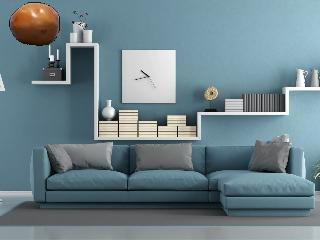potato: (7, 2, 62, 47)
